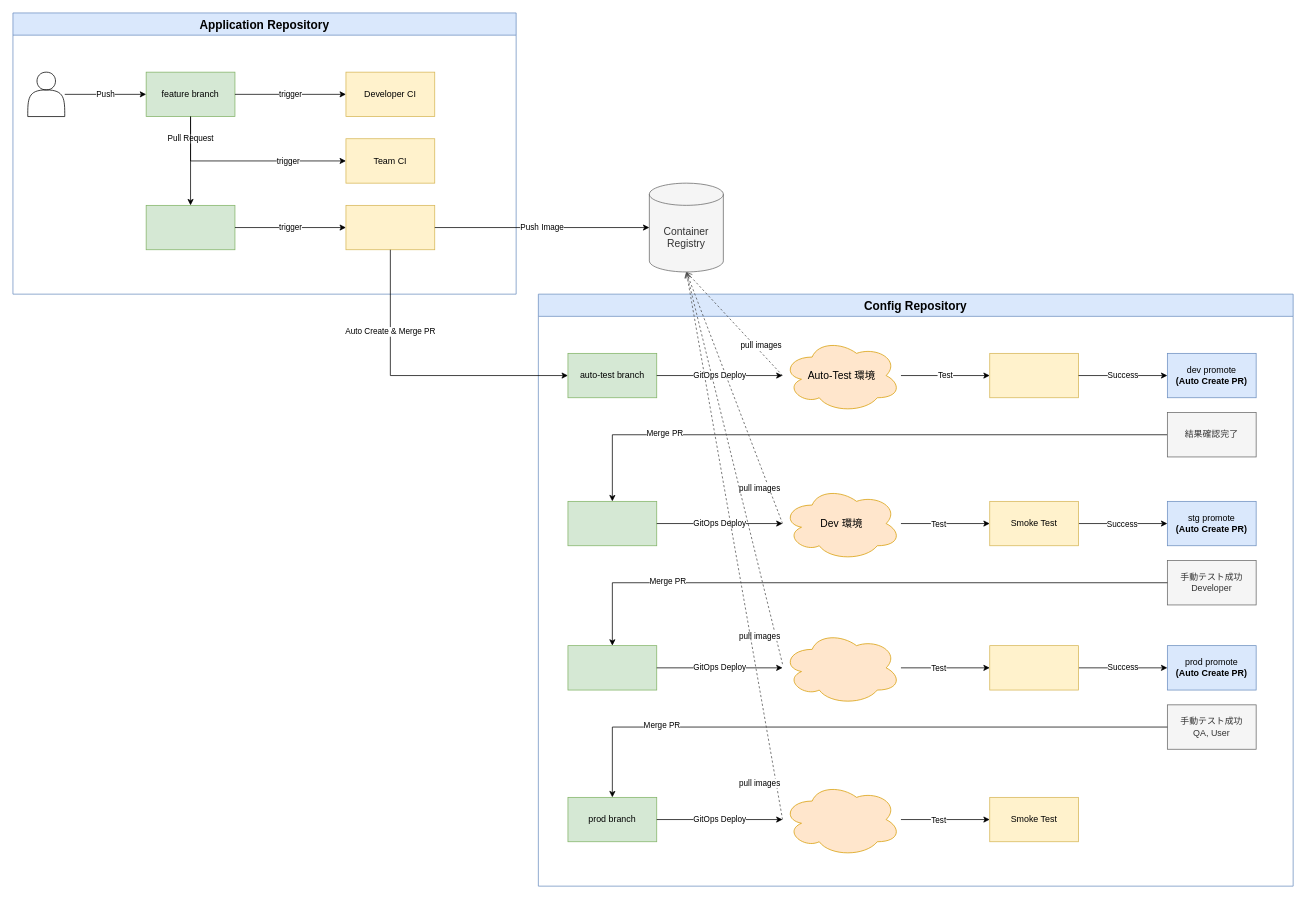
The diagram is 1306 pixels wide and 899 high, and some of its shapes have lost their labels. Here are the shapes that lost their labels. From the top down, the centre of each, then its label:
At [46,94]: "Developer".
At [190,227]: "main branch".
At [390,227]: "Component CI".
At [1034,375]: "System CI".
At [612,523]: "dev branch".
At [612,667]: "stg branch".
At [841,667]: "Stg 環境".
At [1034,667]: "Smoke Test DAST Perf Test".
At [841,819]: "Prod 環境".
